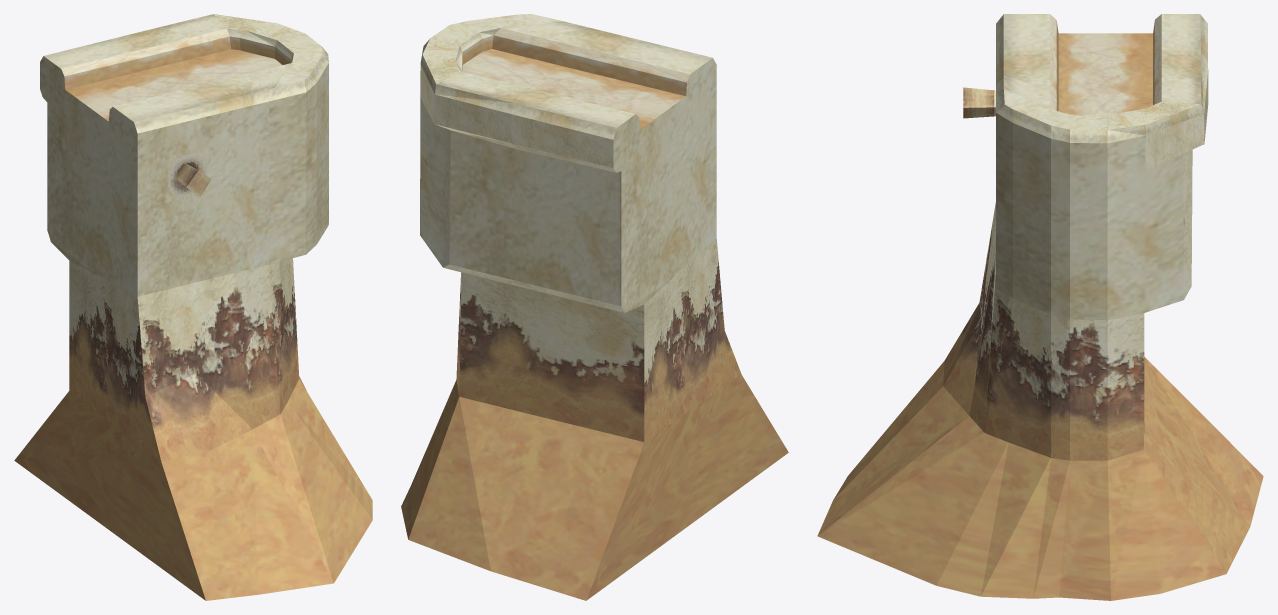
Rendered from C2SMWA5HRE_HL.obj.
3 renders of one model, left to right at view 1: azimuth 30°, elevation 25°; view 2: azimuth 150°, elevation 25°; view 3: azimuth 270°, elevation 25°, orthographic. The views are drawn at different scales.
Parts seen in each view (by area): view 1: Node 0; view 2: Node 0; view 3: Node 0.
Boxes of the visible parts, box(x1,y1,x2,y2) form: Node 0: box(14, 14, 372, 600); Node 0: box(401, 14, 788, 600); Node 0: box(817, 14, 1263, 600).
Size of the model in its own units: 6.2 by 10.69 by 9.36.
Materials: 4 (4 with a texture image).
